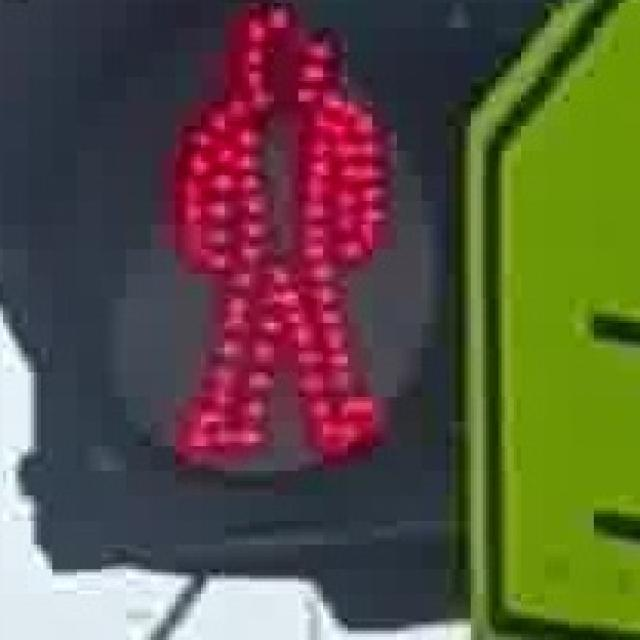red-crossing: (142, 0, 422, 474)
